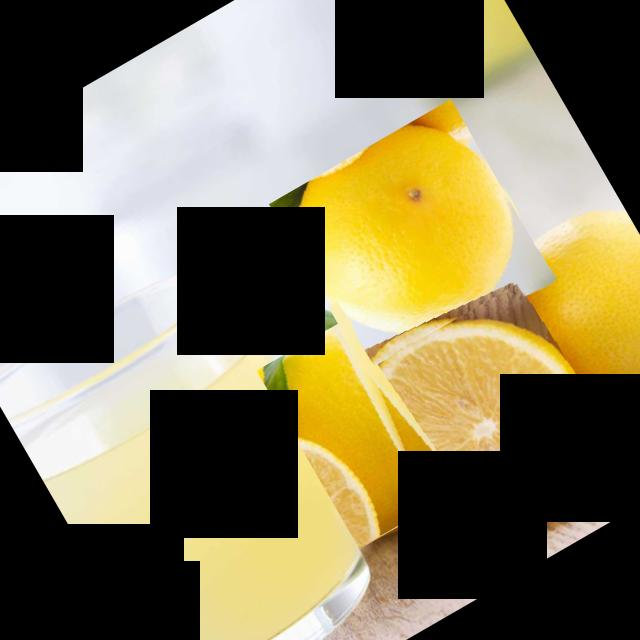lemon: (328, 284, 628, 584), (269, 98, 556, 386), (256, 317, 452, 549), (483, 192, 640, 456)
